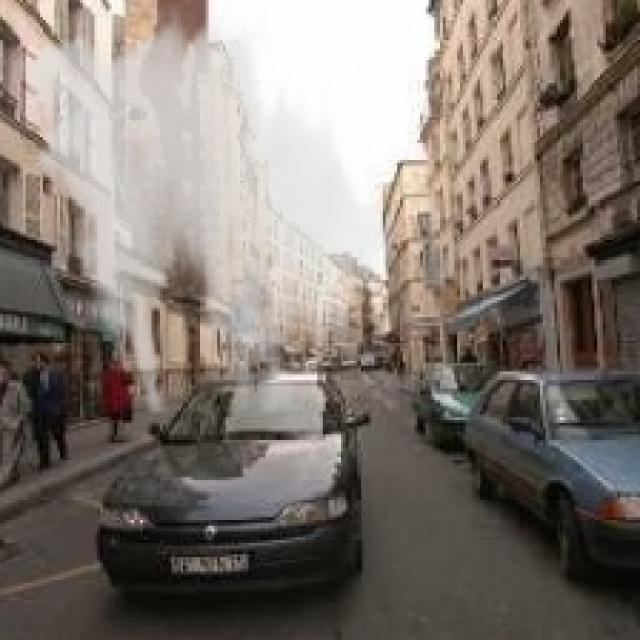smoke: (9, 3, 400, 414)
